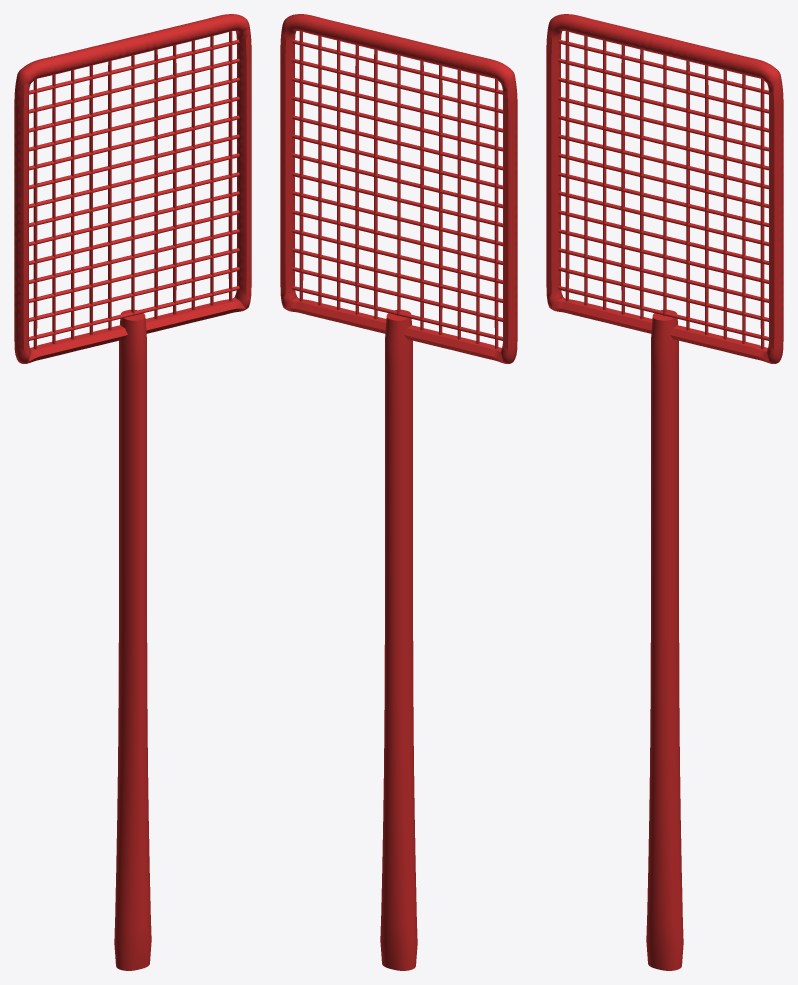
File: fly_swatter.glb
3 renders of one model, left to right at view 1: azimuth 30°, elevation 25°; view 2: azimuth 150°, elevation 25°; view 3: azimuth 330°, elevation 25°, orthographic.
Visible parts, largest first — view 1: Object_2; view 2: Object_2; view 3: Object_2.
Part boxes in pixels (x1,y1,x2,y2): Object_2: (14,14,251,970); Object_2: (280,14,517,970); Object_2: (546,14,783,970).
Size of the model in its own units: 22.59 by 85.63 by 2.8.
